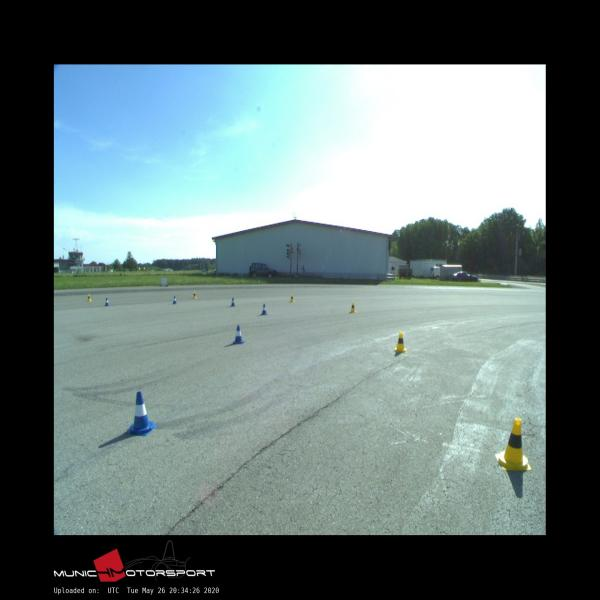blue_cone: (125, 391, 157, 436), (231, 325, 244, 343), (261, 304, 267, 314), (230, 298, 236, 306), (172, 296, 177, 304), (104, 298, 109, 306)
yellow_cone: (496, 417, 532, 471), (394, 331, 407, 352), (350, 302, 356, 313), (192, 291, 197, 299), (290, 294, 294, 302), (88, 294, 92, 301)
